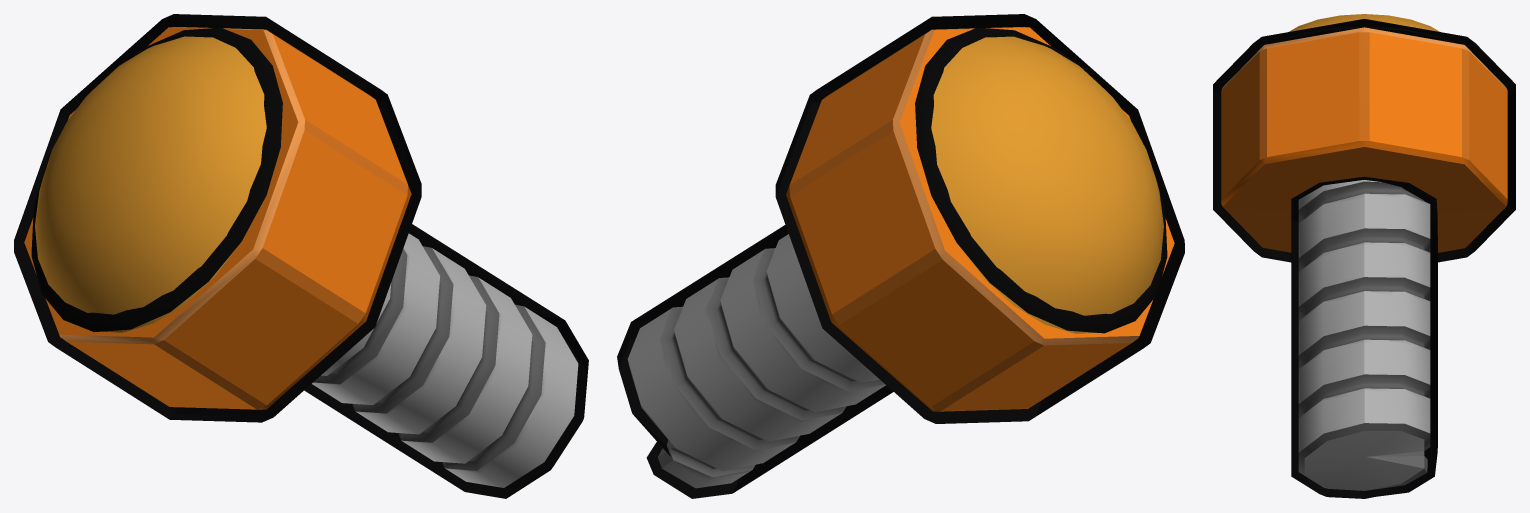
File: BigScrew.obj
3 views of the same model, side by side, from view 1: azimuth 30°, elevation 25°; view 2: azimuth 150°, elevation 25°; view 3: azimuth 270°, elevation 25° (orthographic). The views are drawn at different scales.
Parts seen in each view (by area): view 1: Group[0]; view 2: Group[0]; view 3: Group[0].
Boxes of the visible parts, x1,y1,x2,y2 form: Group[0]: (14, 14, 588, 498); Group[0]: (617, 14, 1184, 498); Group[0]: (1213, 14, 1515, 498).
Size of the model in its own units: 0.8031 by 0.7731 by 0.5277.
